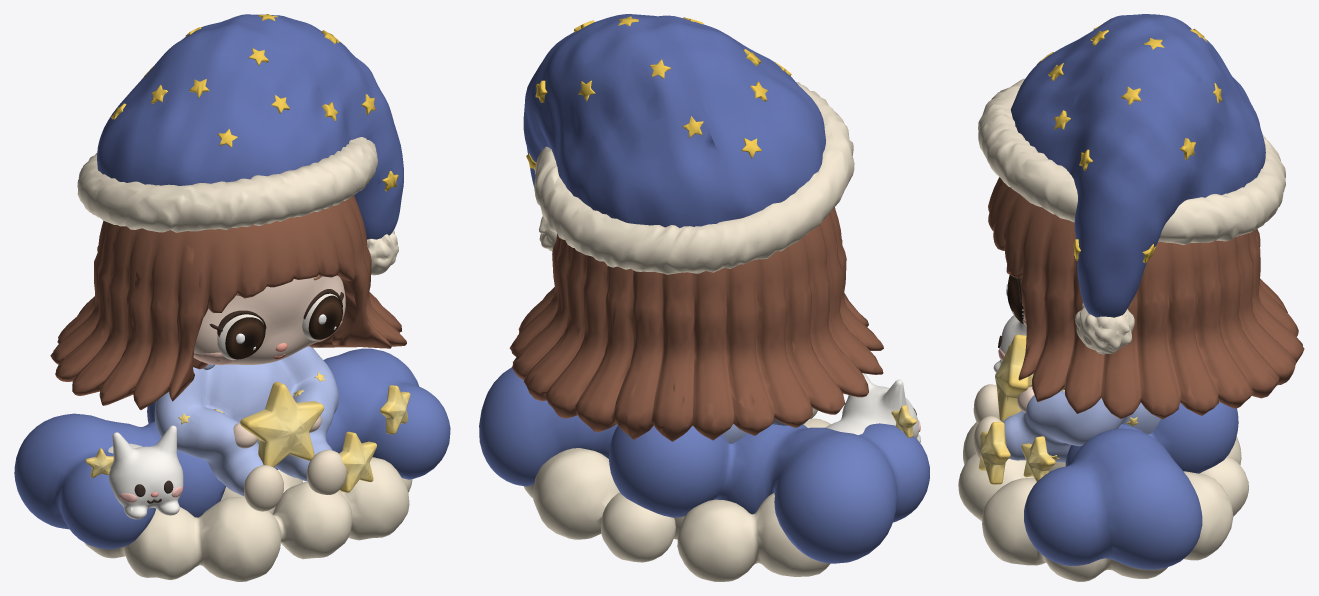
The model's file is lamplight_roblox.glb.
3 views of the same model, side by side, from view 1: azimuth 30°, elevation 25°; view 2: azimuth 150°, elevation 25°; view 3: azimuth 270°, elevation 25° (orthographic). The views are drawn at different scales.
Parts seen in each view (by area): view 1: Lamplight_Nightcap, Lamplight_Hair, Lamplight_BlueCloud, Lamplight_Cloud, Lamplight_CapTrim, Lamplight_Pajamas, Lamplight_Stars, Lamplight_Head, Lamplight_Cat, Lamplight_Socks, Lamplight_Iris, Lamplight_CapStars (+3 smaller); view 2: Lamplight_Hair, Lamplight_Nightcap, Lamplight_BlueCloud, Lamplight_Cloud, Lamplight_CapTrim, Lamplight_Cat, Lamplight_CapStars; view 3: Lamplight_Nightcap, Lamplight_Hair, Lamplight_BlueCloud, Lamplight_CapTrim, Lamplight_Cloud, Lamplight_Pajamas, Lamplight_Stars, Lamplight_Pompom, Lamplight_CapStars, Lamplight_Socks, Lamplight_Cat, Lamplight_Iris.
Part boxes in pixels (x1,y1,x2,y2): Lamplight_Nightcap: (97,14,403,239); Lamplight_Hair: (50,195,406,409); Lamplight_BlueCloud: (14,348,450,549); Lamplight_Cloud: (84,457,412,581); Lamplight_CapTrim: (77,137,377,232); Lamplight_Pajamas: (154,346,338,496); Lamplight_Stars: (85,382,410,492); Lamplight_Head: (194,275,345,364); Lamplight_Cat: (108,425,183,519); Lamplight_Socks: (244,449,346,511); Lamplight_Iris: (225,295,342,359); Lamplight_CapStars: (111,14,398,191); Lamplight_Hair: (509,207,883,441); Lamplight_Nightcap: (523,14,825,227); Lamplight_BlueCloud: (479,367,929,563); Lamplight_Cloud: (524,418,830,581); Lamplight_CapTrim: (534,82,854,274); Lamplight_Cat: (825,373,920,442); Lamplight_CapStars: (526,16,791,169); Lamplight_Nightcap: (1010,14,1265,317); Lamplight_Hair: (988,177,1304,419); Lamplight_BlueCloud: (1024,402,1238,569); Lamplight_CapTrim: (978,78,1285,244); Lamplight_Cloud: (958,422,1248,581); Lamplight_Pajamas: (1003,388,1160,462); Lamplight_Stars: (978,334,1055,484); Lamplight_Pompom: (1075,302,1134,354); Lamplight_CapStars: (1036,24,1222,263); Lamplight_Socks: (973,384,1001,458); Lamplight_Cat: (993,315,1026,372); Lamplight_Iris: (1007,275,1023,323).
Bounding box in the file's own units: 2.94 × 3.51 × 2.21.
25 materials, 25 textured.
